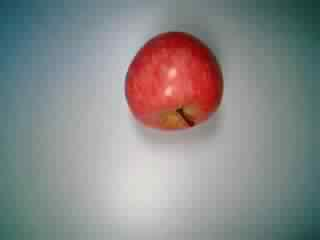apple: (121, 31, 224, 132)
